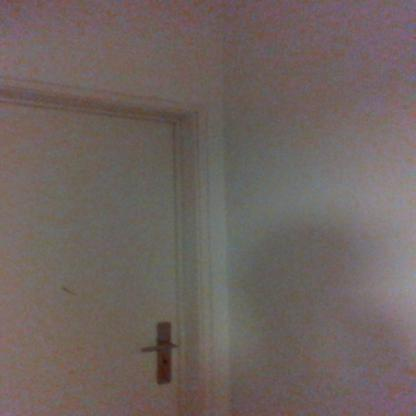door: (0, 96, 184, 416)
lever: (134, 341, 182, 357)
